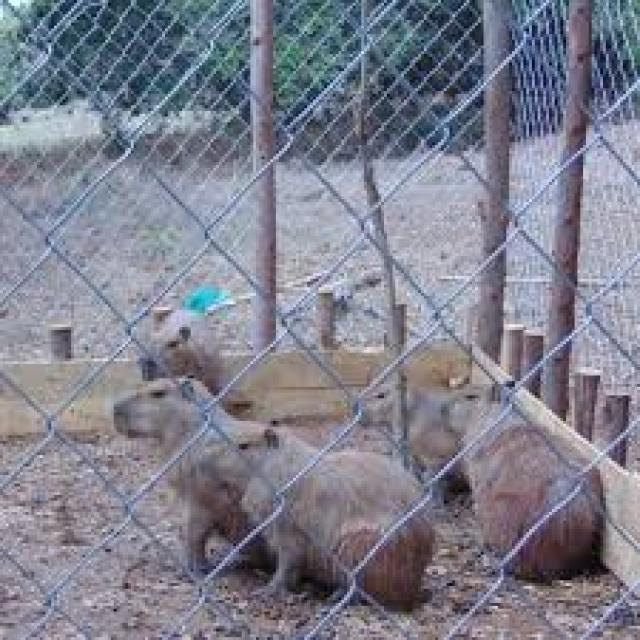capy: (186, 422, 435, 598), (442, 380, 605, 581), (116, 380, 237, 575), (352, 377, 471, 477), (134, 314, 229, 393)
